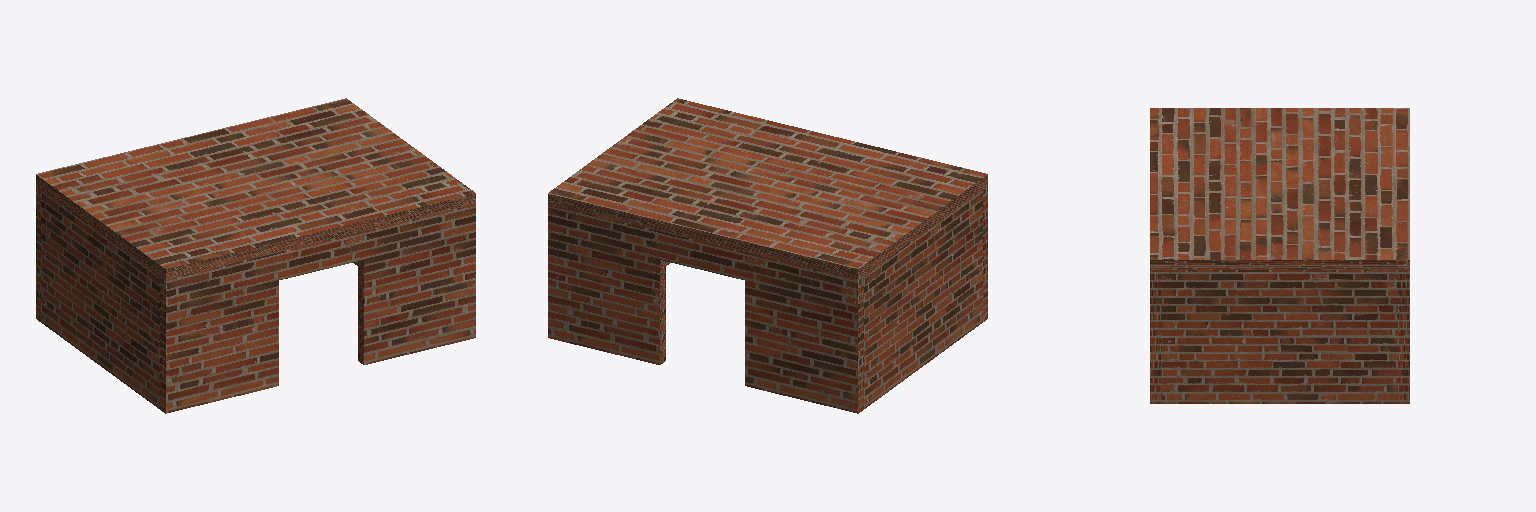
3 views of the same model, side by side, from view 1: azimuth 30°, elevation 25°; view 2: azimuth 150°, elevation 25°; view 3: azimuth 270°, elevation 25° (orthographic).
Visible parts, largest first — view 1: ExpoPared; view 2: ExpoPared; view 3: ExpoPared.
Boxes of the visible parts, x1,y1,x2,y2 form: ExpoPared: [36, 98, 475, 413]; ExpoPared: [548, 98, 987, 413]; ExpoPared: [1150, 108, 1409, 403].
Size of the model in its own units: 6.08 by 2.7 by 4.4.
Materials: 1 (1 with a texture image).